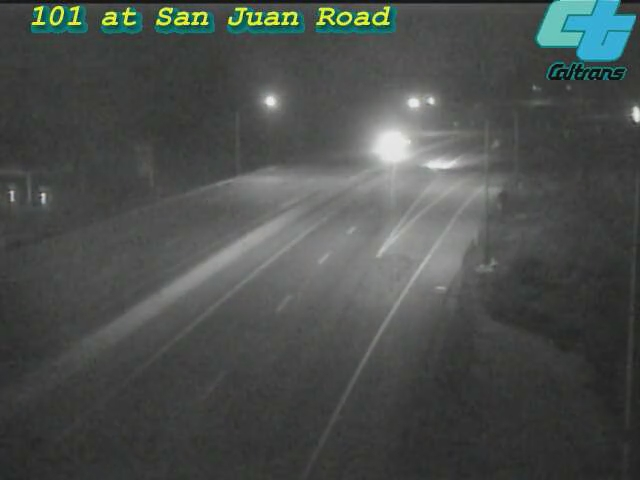vehicle: (394, 124, 474, 204), (367, 121, 417, 171)
